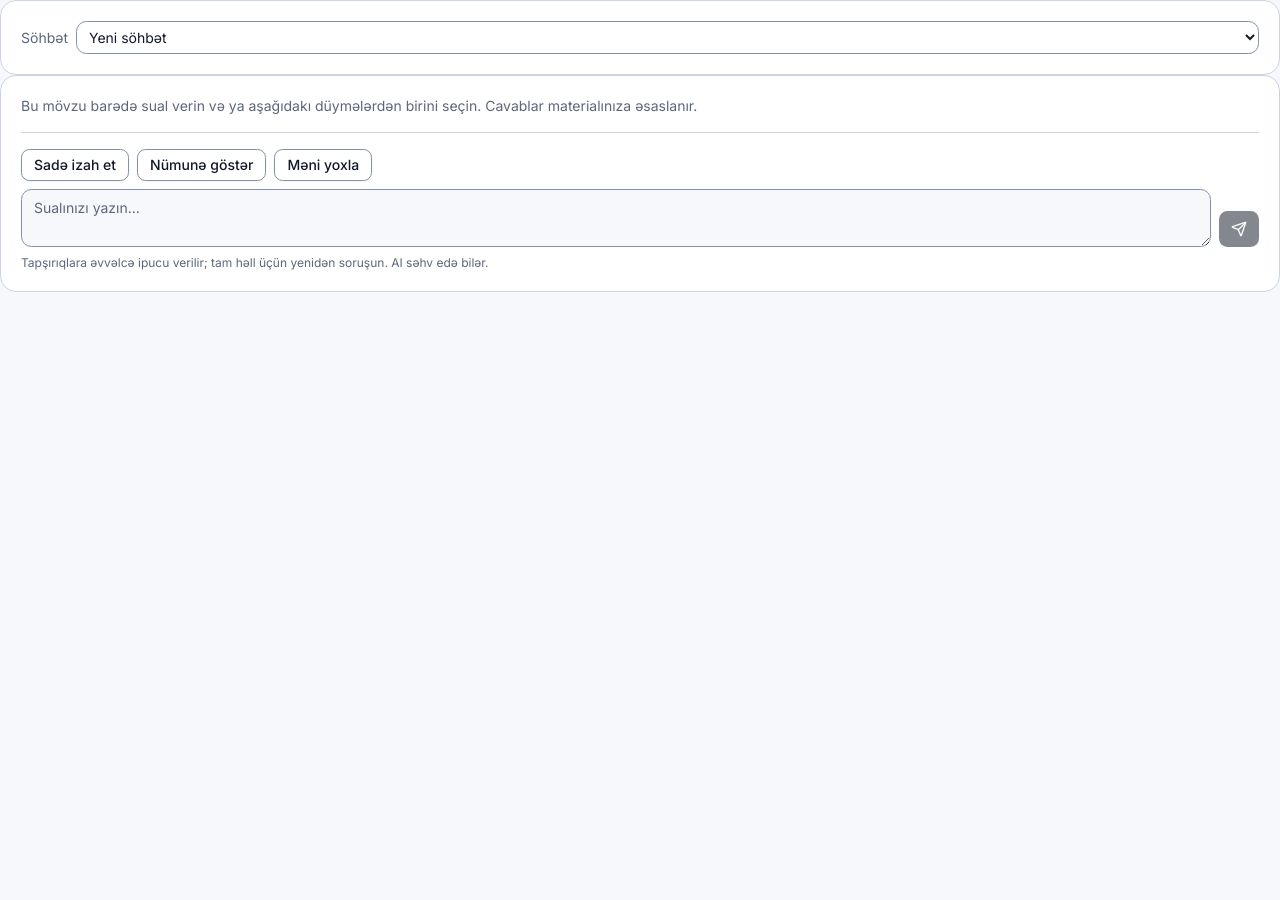
Test: Soruş tab › survives malformed messages: one bad bubble shows an inline notice, the rest stays
This screenshot has width=1280, height=900.
Select "Prosessor · 12.10.2026, 10:00" in the dropdown labelled "Söhbət" at (668, 38), box x1=76 y1=21 x2=1259 y2=54
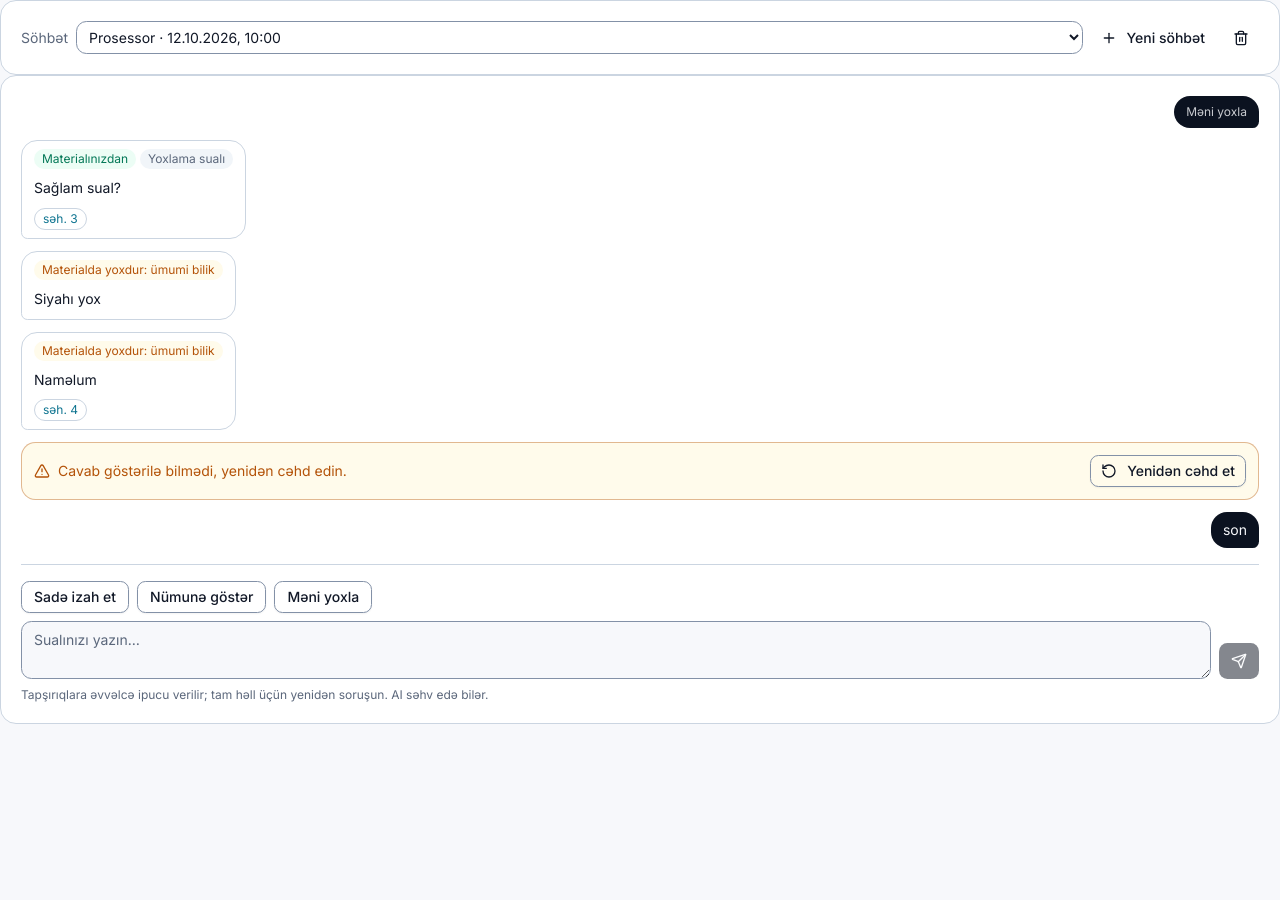
Check: the text "Siyahı yox" is shown, box x1=34 y1=290 x2=101 y2=307
Check: the text "Naməlum" is shown, box x1=34 y1=370 x2=97 y2=388
Check: the text "səh. 4" is shown, box x1=34 y1=399 x2=87 y2=421
